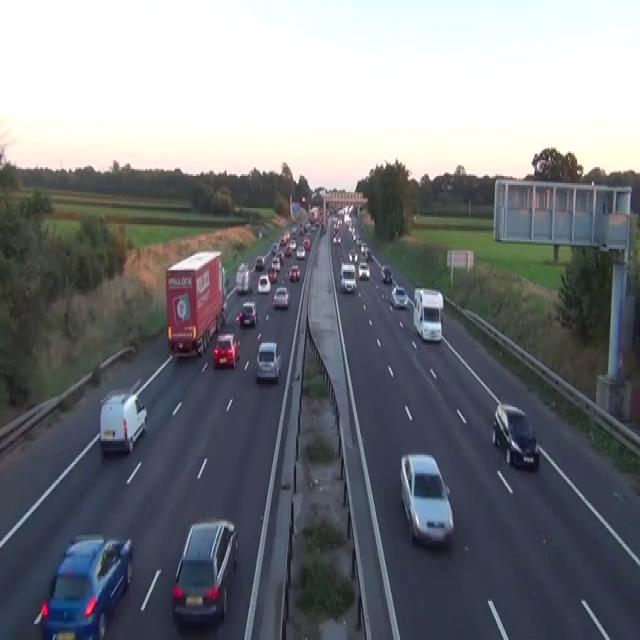Car: (34, 532, 132, 638), (171, 519, 238, 624), (399, 452, 454, 548), (98, 391, 147, 455), (492, 404, 539, 469), (255, 340, 281, 382), (213, 332, 240, 368), (236, 301, 258, 327), (390, 284, 408, 310), (340, 263, 356, 292), (272, 284, 289, 308), (257, 274, 271, 293), (360, 242, 372, 261), (222, 266, 229, 298), (380, 265, 392, 283), (289, 263, 300, 281), (358, 261, 369, 279), (220, 300, 228, 324), (255, 254, 265, 270), (267, 266, 277, 282), (271, 256, 280, 272), (348, 249, 358, 263), (223, 268, 229, 288), (296, 245, 305, 258), (441, 182, 455, 190), (270, 242, 279, 254), (277, 249, 284, 263), (303, 237, 310, 250), (344, 213, 351, 226), (366, 247, 372, 261), (235, 310, 241, 324), (332, 234, 341, 243), (320, 222, 326, 235), (289, 238, 296, 249), (284, 245, 291, 256), (360, 242, 367, 252), (283, 231, 289, 242), (279, 237, 286, 246), (332, 221, 338, 231), (258, 228, 262, 238)
Truck: (165, 249, 228, 357), (413, 288, 443, 343), (235, 262, 250, 294), (309, 204, 320, 224)
